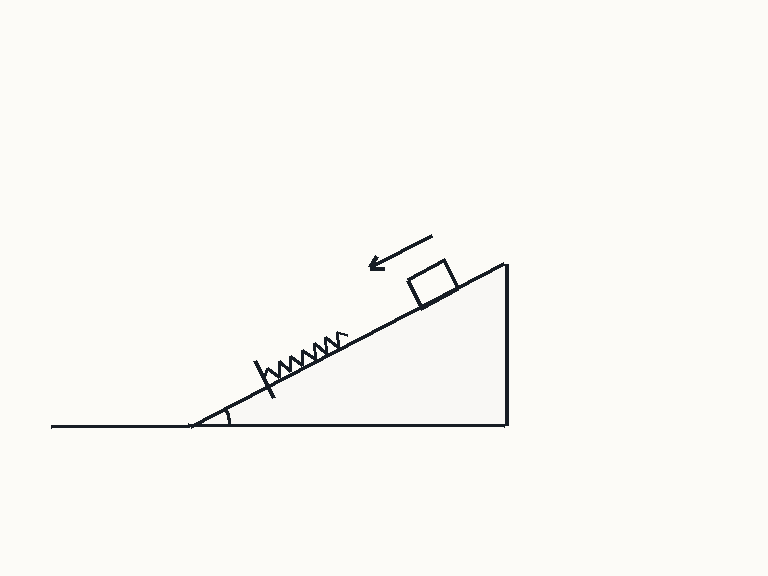block: (405, 259, 460, 309)
ramp: (187, 262, 507, 427)
spring: (262, 330, 348, 379)
